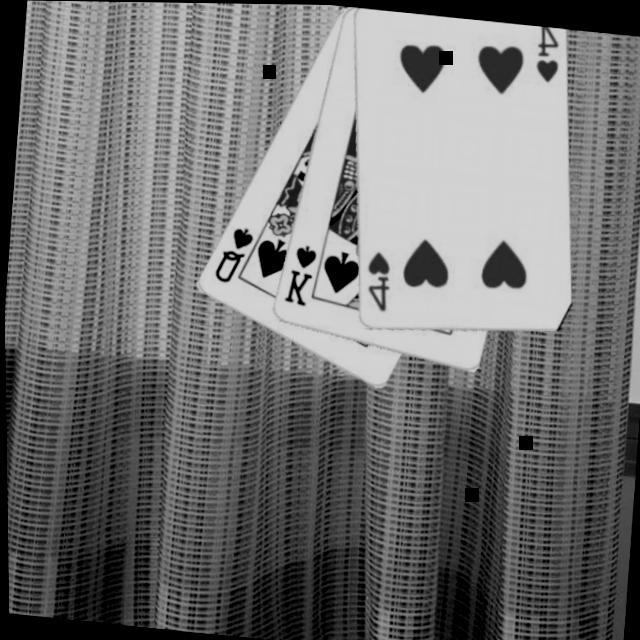4H: (359, 245, 396, 312), (530, 24, 566, 84)
KS: (279, 238, 322, 309)
QS: (210, 220, 258, 286)
